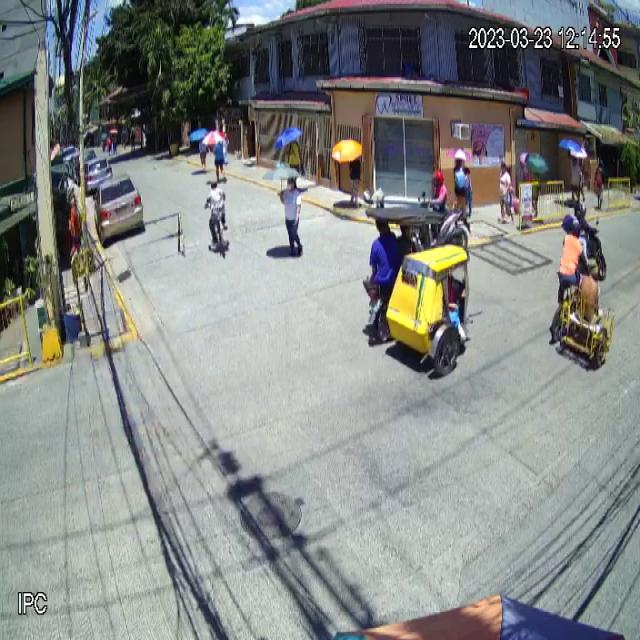Tricycle: (363, 206, 471, 375)
